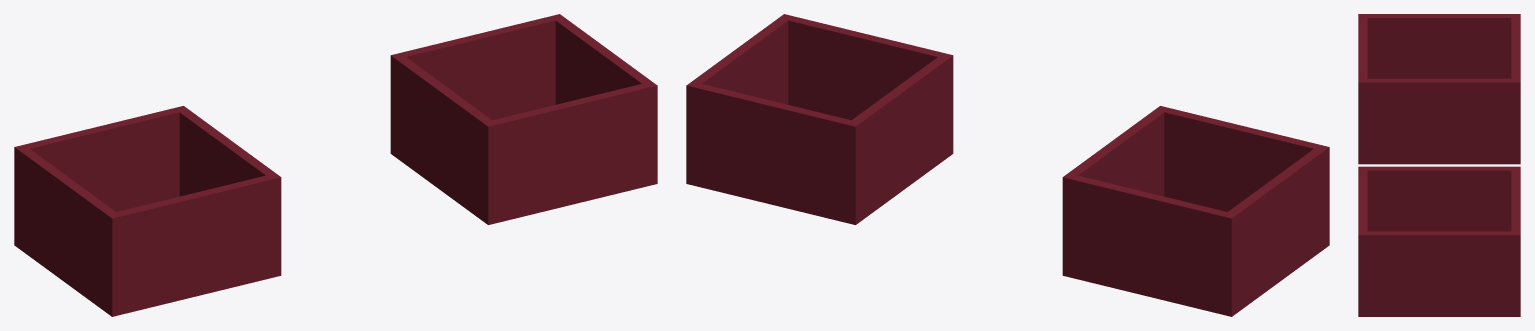
Rendered from ark_middle_001_msh.fbx.
The picture shows the model from 3 angles, left to right: view 1: azimuth 30°, elevation 25°; view 2: azimuth 150°, elevation 25°; view 3: azimuth 270°, elevation 25°; orthographic projection. The views are drawn at different scales.
Visible parts, largest first — view 1: ark_middle_001_msh; view 2: ark_middle_001_msh; view 3: ark_middle_001_msh.
Boxes of the visible parts, x1,y1,x2,y2 form: ark_middle_001_msh: (14, 14, 657, 316); ark_middle_001_msh: (686, 14, 1329, 316); ark_middle_001_msh: (1358, 14, 1520, 316).
Bounding box in the file's own units: 580 × 100 × 180.
